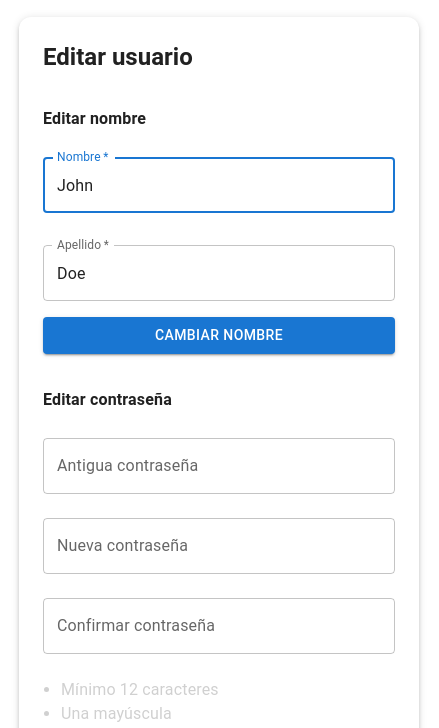
Test: UserEdit › maps a first-name format error (FN003)
Click the button "Cambiar nombre".
click(219, 335)  # box top-left (43, 317), bottom-right (395, 354)
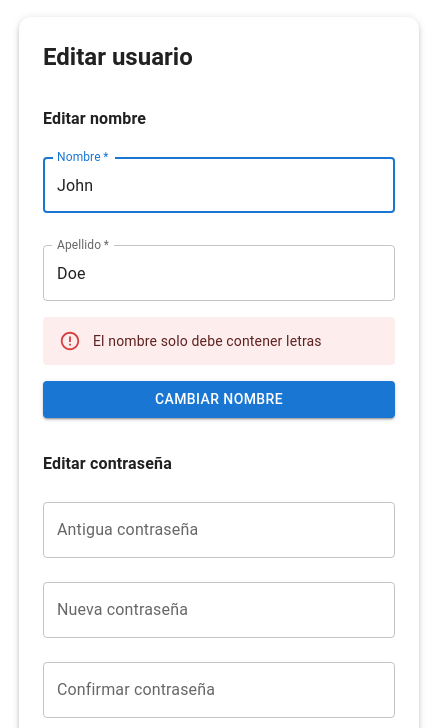
Now the text "El nombre solo debe contener letras" is shown, box top-left (93, 333), bottom-right (322, 349)
